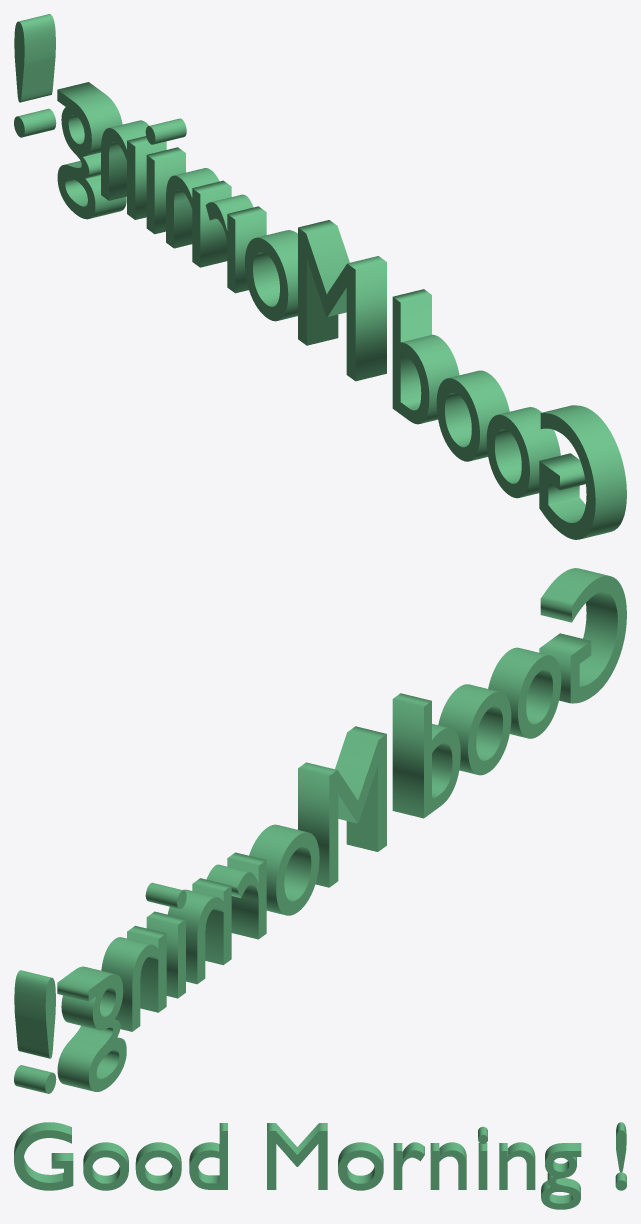
The model's file is goodmorning.glb.
3 views of the same model, one above another, from view 1: azimuth 30°, elevation 25°; view 2: azimuth 150°, elevation 25°; view 3: azimuth 270°, elevation 25° (orthographic). The views are drawn at different scales.
Visible parts, largest first — view 1: 文本; view 2: 文本; view 3: 文本.
Boxes of the visible parts, x1,y1,x2,y2 form: 文本: [14, 14, 626, 539]; 文本: [14, 568, 626, 1093]; 文本: [14, 1122, 626, 1209].
Size of the model in its own units: 0.2 by 0.921 by 6.43.
